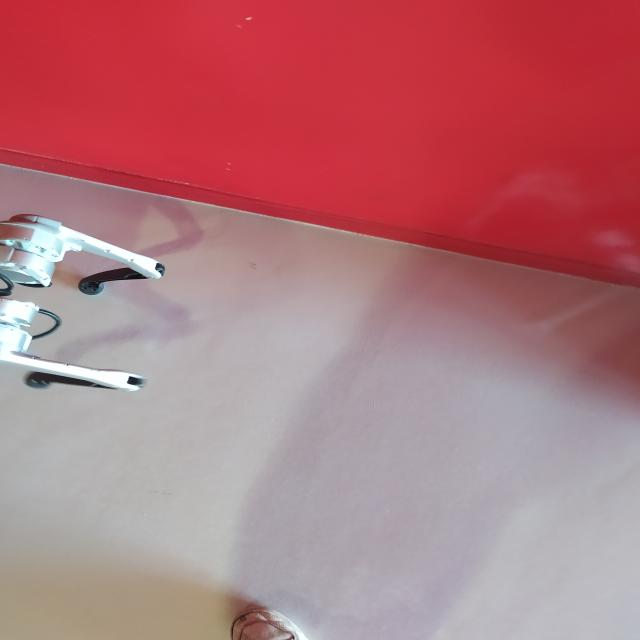unitree-go1-robot: (3, 200, 177, 416)
